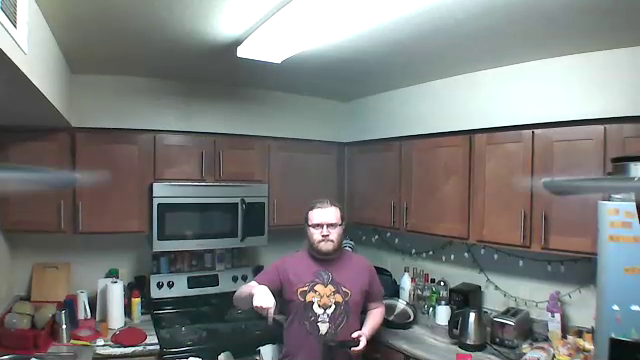down: (247, 277, 278, 330)
